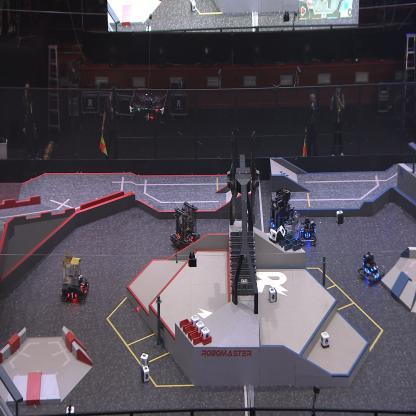car: (171, 201, 200, 251), (268, 188, 293, 243), (60, 255, 89, 302), (358, 251, 385, 286), (282, 210, 302, 250), (297, 215, 317, 249)
